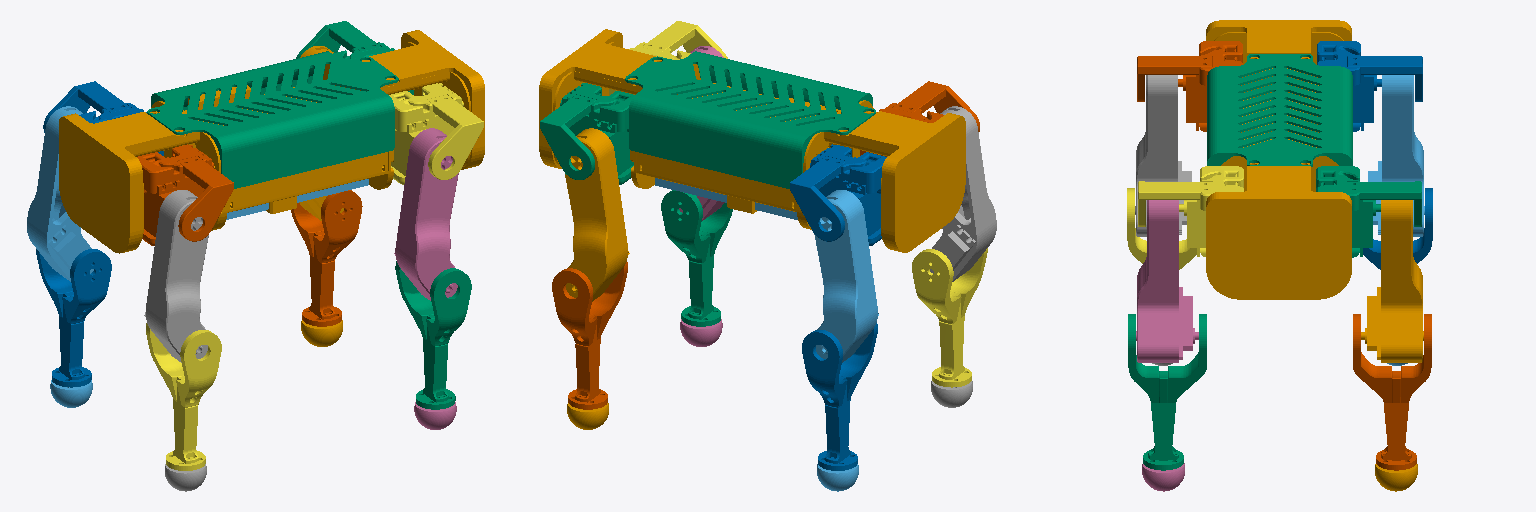
--- Render facts (derived) ---
3 views of the same robot in one strip: view 1: azimuth 30°, elevation 25°; view 2: azimuth 150°, elevation 25°; view 3: azimuth 270°, elevation 25° (orthographic).
Model spot with 19 links and 18 joints (12 revolute, 6 fixed), rooted at base_link, posed every joint at zero.
Visible links, largest first — view 1: base_link, Top_Cover1, front_right_upper_leg, back_right_upper_leg, back_right_hip, front_right_hip, front_right_lower_leg, back_right_lower_leg, back_left_lower_leg, front_left_lower_leg, back_left_upper_leg, back_left_hip (+6 smaller); view 2: Top_Cover1, base_link, front_left_upper_leg, back_left_upper_leg, back_left_hip, front_left_hip, front_left_lower_leg, back_left_lower_leg, back_right_lower_leg, front_right_lower_leg, back_right_upper_leg, back_right_hip (+6 smaller); view 3: base_link, Top_Cover1, front_right_upper_leg, front_left_upper_leg, front_right_lower_leg, front_left_lower_leg, back_right_upper_leg, back_left_upper_leg, back_left_hip, back_right_hip, front_left_hip, front_right_hip (+4 smaller).
Boxes of the visible links, x1,y1,x2,y2 form: base_link: (59, 30, 484, 253); Top_Cover1: (147, 51, 398, 188); front_right_upper_leg: (394, 128, 458, 300); back_right_upper_leg: (144, 190, 208, 362); back_right_hip: (137, 144, 233, 245); front_right_hip: (389, 83, 483, 184); front_right_lower_leg: (395, 261, 471, 409); back_right_lower_leg: (146, 323, 221, 470); back_left_lower_leg: (36, 249, 111, 387); front_left_lower_leg: (291, 190, 362, 326); back_left_upper_leg: (27, 106, 93, 281); back_left_hip: (43, 81, 163, 155); Top_Cover1: (625, 51, 875, 188); base_link: (539, 29, 965, 252); front_left_upper_leg: (565, 128, 629, 301); back_left_upper_leg: (814, 190, 878, 362); back_left_hip: (790, 144, 886, 245); front_left_hip: (540, 83, 633, 184); front_left_lower_leg: (552, 262, 627, 409); back_left_lower_leg: (802, 323, 877, 470); back_right_lower_leg: (912, 248, 987, 387); front_right_lower_leg: (661, 190, 732, 326); back_right_upper_leg: (930, 106, 996, 281); back_right_hip: (860, 81, 979, 156); base_link: (1206, 20, 1351, 299); Top_Cover1: (1207, 54, 1352, 166); front_right_upper_leg: (1136, 200, 1198, 362); front_left_upper_leg: (1361, 200, 1423, 362); front_right_lower_leg: (1128, 314, 1206, 470); front_left_lower_leg: (1353, 314, 1431, 470); back_right_upper_leg: (1135, 75, 1191, 236); back_left_upper_leg: (1368, 75, 1424, 236); back_left_hip: (1317, 41, 1422, 131); back_right_hip: (1137, 41, 1242, 131); front_left_hip: (1316, 166, 1421, 257); front_right_hip: (1138, 166, 1243, 256).
Bounding box of the posed robot: 0.3286 × 0.2378 × 0.2808 m (x, y, z).
19 mesh visuals loaded from 19 distinct referenced files (19 binary STL).

URDF robot description (spot):
<?xml version="1.0" ?>
<robot name="spot">

<material name="silver">
  <color rgba="0.700 0.700 0.700 1.000"/>

</material>
<material name="yellow">
    <color rgba="0.92 0.83 0.0 1"/>
</material>
<material name="black">
    <color rgba="0.1 0.1 0.1 1"/>
</material>
<material name="grey">
    <color rgba="0.6 0.6 0.6 1"/>
</material>
<material name="light_blue">
    <color rgba="0.678 0.847 0.902 1"/> 
</material>

<material name="golden">
    <color rgba="1.000 0.843 0.0 1"/> 
</material>

<link name="base_link">
  <inertial>
    <origin xyz="-0.008295240581080318 -0.002739576675468445 0.17292700566106015" rpy="0 0 0"/>
    <mass value="0.97"/>
    <inertia ixx="0.007045860818261918" iyy="0.05018533013712814" izz="0.051279011777961" ixy="0.00016485649826388768" iyz="-0.0001168007745745536" ixz="-3.733456442930709e-05"/>
  </inertial>
  <visual>
    <origin xyz="0 0 0" rpy="0 0 0"/>
    <geometry>
      <mesh filename="package://mini_ros/stl/minimal/base_link.stl" scale="0.001 0.001 0.001"/>
    </geometry>
    <material name="light_blue"/>
    <material/>
  </visual>
  <collision>
    <origin xyz="0 0 0" rpy="0 0 0"/>
    <geometry>
      <mesh filename="package://mini_ros/stl/minimal/base_link.stl" scale="0.001 0.001 0.001"/>
    </geometry>
  </collision>
</link>

<link name="battery">
  <inertial>
    <origin xyz="0.005151502934190126 -0.00655890470924438 -0.13673207013708202" rpy="0 0 0"/>
    <mass value="0.4"/>
    <inertia ixx="0.00033816920799999844" iyy="0.002269251561199996" izz="0.0024539963499999404" ixy="-5.096779355712785e-16" iyz="-2.6020852139652106e-18" ixz="1.951563910473908e-18"/>
  </inertial>
  <visual>
    <origin xyz="0.00171 -0.005957 -0.274464" rpy="0 0 0"/>
    <geometry>
      <mesh filename="package://mini_ros/stl/minimal/battery.stl" scale="0.001 0.001 0.001"/>
    </geometry>
    <material name="silver"/>
    <material/>
  </visual>
  <collision>
    <origin xyz="0.00171 -0.005957 -0.274464" rpy="0 0 0"/>
    <geometry>
      <mesh filename="package://mini_ros/stl/minimal/battery.stl" scale="0.001 0.001 0.001"/>
    </geometry>
  </collision>
</link>

<link name="Top_Cover1">
  <inertial>
    <origin xyz="0.09775249778321064 0.01999880120190154 -0.007917918975839239" rpy="0 0 0"/>
    <mass value="0.01"/>
    <inertia ixx="0.0018981617399269207" iyy="0.002138165559090438" izz="0.0038392899157759877" ixy="9.151139086435299e-08" iyz="4.980760630608869e-09" ixz="-2.1117137228633155e-06"/>
  </inertial>
  <visual>
    <origin xyz="0.099609 0.020627 -0.209632" rpy="0 0 0"/>
    <geometry>
      <mesh filename="package://mini_ros/stl/minimal/Top_Cover1.stl" scale="0.001 0.001 0.001"/>
    </geometry>
    <material name="silver"/>
    <material/>
  </visual>
  <collision>
    <origin xyz="0.099609 0.020627 -0.209632" rpy="0 0 0"/>
    <geometry>
      <mesh filename="package://mini_ros/stl/minimal/Top_Cover1.stl" scale="0.001 0.001 0.001"/>
    </geometry>
  </collision>
</link>

<link name="front_right_hip">
  <inertial>
    <origin xyz="-0.04330246146953602 -0.012492057044125468 -0.011202341384982967" rpy="0 0 0"/>
    <mass value="0.2"/>
    <inertia ixx="0.0006408362618219345" iyy="0.00053959261222776" izz="0.0005883876061230486" ixy="-4.5312501380957194e-05" iyz="7.08611302911652e-05" ixz="-4.589536802142649e-05"/>
  </inertial>
  <visual>
    <origin xyz="-0.152192 0.038954 -0.18373" rpy="0 0 0"/>
    <geometry>
      <mesh filename="package://mini_ros/stl/minimal/front_right_hip.stl" scale="0.001 0.001 0.001"/>
    </geometry>
    <material name="silver"/>
    <material/>
  </visual>
  <collision>
    <origin xyz="-0.152192 0.038954 -0.18373" rpy="0 0 0"/>
    <geometry>
      <mesh filename="package://mini_ros/stl/minimal/front_right_hip.stl" scale="0.001 0.001 0.001"/>
    </geometry>
  </collision>
</link>

<link name="back_left_hip">
  <inertial>
    <origin xyz="-0.043302462194397 0.012491962447182606 -0.011202100241462343" rpy="0 0 0"/>
    <mass value="0.2"/>
    <inertia ixx="0.0006408362818290658" iyy="0.0005395926191174086" izz="0.0005883876444021784" ixy="4.531247164380175e-05" iyz="-7.086110951588006e-05" ixz="-4.5895271587999276e-05"/>
  </inertial>
  <visual>
    <origin xyz="0.079108 -0.038373 -0.183732" rpy="0 0 0"/>
    <geometry>
      <mesh filename="package://mini_ros/stl/minimal/back_left_hip.stl" scale="0.001 0.001 0.001"/>
    </geometry>
    <material name="silver"/>
    <material/>
  </visual>
  <collision>
    <origin xyz="0.079108 -0.038373 -0.183732" rpy="0 0 0"/>
    <geometry>
      <mesh filename="package://mini_ros/stl/minimal/back_left_hip.stl" scale="0.001 0.001 0.001"/>
    </geometry>
  </collision>
</link>

<link name="back_right_hip">
  <inertial>
    <origin xyz="-0.04330246146953905 -0.01249176984284276 -0.011202104890385922" rpy="0 0 0"/>
    <mass value="0.2"/>
    <inertia ixx="0.0006408362618219518" iyy="0.0005395926122277669" izz="0.0005883876061230451" ixy="-4.5312501380957194e-05" iyz="7.086113029116693e-05" ixz="-4.589536802142649e-05"/>
  </inertial>
  <visual>
    <origin xyz="0.079108 0.039627 -0.183732" rpy="0 0 0"/>
    <geometry>
      <mesh filename="package://mini_ros/stl/minimal/back_right_hip.stl" scale="0.001 0.001 0.001"/>
    </geometry>
    <material name="silver"/>
    <material/>
  </visual>
  <collision>
    <origin xyz="0.079108 0.039627 -0.183732" rpy="0 0 0"/>
    <geometry>
      <mesh filename="package://mini_ros/stl/minimal/back_right_hip.stl" scale="0.001 0.001 0.001"/>
    </geometry>
  </collision>
</link>

<link name="front_right_upper_leg">
  <inertial>
    <origin xyz="-0.005112243369563396 -0.013293003120319682 -0.07465796672303905" rpy="0 0 0"/>
    <mass value="0.13"/>
    <inertia ixx="0.0013040807755517036" iyy="0.0013105636715430146" izz="0.00017991785156292947" ixy="-1.921713871266134e-06" iyz="7.025425398499326e-06" ixz="-4.554079626025755e-06"/>
  </inertial>
  <visual>
    <origin xyz="-0.096041 0.079104 -0.172858" rpy="0 0 0"/>
    <geometry>
      <mesh filename="package://mini_ros/stl/minimal/front_right_upper_leg.stl" scale="0.001 0.001 0.001"/>
    </geometry>
    <material name="light_blue"/>
    <material/>
  </visual>
  <collision>
    <origin xyz="-0.096041 0.079104 -0.172858" rpy="0 0 0"/>
    <geometry>
      <mesh filename="package://mini_ros/stl/minimal/front_right_upper_leg.stl" scale="0.001 0.001 0.001"/>
    </geometry>
  </collision>
</link>

<link name="back_right_upper_leg">
  <inertial>
    <origin xyz="-0.00511224336956656 -0.013292715919036899 -0.07465773022844209" rpy="0 0 0"/>
    <mass value="0.13"/>
    <inertia ixx="0.0013040807755516984" iyy="0.0013105636715430163" izz="0.000179917851562926" ixy="-1.9217138712643994e-06" iyz="7.025425398500193e-06" ixz="-4.554079626021418e-06"/>
  </inertial>
  <visual>
    <origin xyz="0.135259 0.079777 -0.17286" rpy="0 0 0"/>
    <geometry>
      <mesh filename="package://mini_ros/stl/minimal/back_right_upper_leg.stl" scale="0.001 0.001 0.001"/>
    </geometry>
    <material name="light_blue"/>
    <material/>
  </visual>
  <collision>
    <origin xyz="0.135259 0.079777 -0.17286" rpy="0 0 0"/>
    <geometry>
      <mesh filename="package://mini_ros/stl/minimal/back_right_upper_leg.stl" scale="0.001 0.001 0.001"/>
    </geometry>
  </collision>
</link>

<link name="front_left_upper_leg">
  <inertial>
    <origin xyz="-0.005112242846317422 0.013292712880005941 -0.07465796552731578" rpy="0 0 0"/>
    <mass value="0.13"/>
    <inertia ixx="0.0013040807009325837" iyy="0.0013105635564394733" izz="0.0001799178000066754" ixy="1.921718112497632e-06" iyz="-7.025415706232371e-06" ixz="-4.554068530070003e-06"/>
  </inertial>
  <visual>
    <origin xyz="-0.096041 -0.077851 -0.172858" rpy="0 0 0"/>
    <geometry>
      <mesh filename="package://mini_ros/stl/minimal/front_left_upper_leg.stl" scale="0.001 0.001 0.001"/>
    </geometry>
    <material name="light_blue"/>
    <material/>
  </visual>
  <collision>
    <origin xyz="-0.096041 -0.077851 -0.172858" rpy="0 0 0"/>
    <geometry>
      <mesh filename="package://mini_ros/stl/minimal/front_left_upper_leg.stl" scale="0.001 0.001 0.001"/>
    </geometry>
  </collision>
</link>

<link name="back_left_upper_leg">
  <inertial>
    <origin xyz="-0.005112242846320447 0.01329291039358671 -0.07465772903271933" rpy="0 0 0"/>
    <mass value="0.13"/>
    <inertia ixx="0.0013040807009325802" iyy="0.001310563556439475" izz="0.00017991780000667715" ixy="1.9217181124967647e-06" iyz="-7.025415706231504e-06" ixz="-4.554068530065666e-06"/>
  </inertial>
  <visual>
    <origin xyz="0.135259 -0.078523 -0.17286" rpy="0 0 0"/>
    <geometry>
      <mesh filename="package://mini_ros/stl/minimal/back_left_upper_leg.stl" scale="0.001 0.001 0.001"/>
    </geometry>
    <material name="light_blue"/>
    <material/>
  </visual>
  <collision>
    <origin xyz="0.135259 -0.078523 -0.17286" rpy="0 0 0"/>
    <geometry>
      <mesh filename="package://mini_ros/stl/minimal/back_left_upper_leg.stl" scale="0.001 0.001 0.001"/>
    </geometry>
  </collision>
</link>

<link name="front_right_lower_leg">
  <inertial>
    <origin xyz="0.00018698239808921657 0.023879765693408925 -0.04239106134065181" rpy="0 0 0"/>
    <mass value="0.05"/>
    <inertia ixx="0.000500921946588284" iyy="0.00040443925168893264" izz="0.0001281628902407364" ixy="1.1263314344351835e-07" iyz="-2.1529711112841738e-05" ixz="8.242610845028307e-07"/>
  </inertial>
  <visual>
    <origin xyz="-0.096041 0.112504 -0.062858" rpy="0 0 0"/>
    <geometry>
      <mesh filename="package://mini_ros/stl/minimal/front_right_lower_leg.stl" scale="0.001 0.001 0.001"/>
    </geometry>
    <material name="silver"/>
    <material/>
  </visual>
  <collision>
    <origin xyz="-0.096041 0.112504 -0.062858" rpy="0 0 0"/>
    <geometry>
      <mesh filename="package://mini_ros/stl/minimal/front_right_lower_leg.stl" scale="0.001 0.001 0.001"/>
    </geometry>
  </collision>
</link>

<link name="back_right_lower_leg">
  <inertial>
    <origin xyz="0.00018698239808756512 0.023880052894691667 -0.042390824846054644" rpy="0 0 0"/>
    <mass value="0.05"/>
    <inertia ixx="0.0005009219465882796" iyy="0.00040443925168894435" izz="0.0001281628902407364" ixy="1.1263314343701314e-07" iyz="-2.1529711112841412e-05" ixz="8.242610845074928e-07"/>
  </inertial>
  <visual>
    <origin xyz="0.135259 0.113177 -0.06286" rpy="0 0 0"/>
    <geometry>
      <mesh filename="package://mini_ros/stl/minimal/back_right_lower_leg.stl" scale="0.001 0.001 0.001"/>
    </geometry>
    <material name="silver"/>
    <material/>
  </visual>
  <collision>
    <origin xyz="0.135259 0.113177 -0.06286" rpy="0 0 0"/>
    <geometry>
      <mesh filename="package://mini_ros/stl/minimal/back_right_lower_leg.stl" scale="0.001 0.001 0.001"/>
    </geometry>
  </collision>
</link>

<link name="back_left_lower_leg">
  <inertial>
    <origin xyz="0.00018696862916936507 -0.023879881160866284 -0.04239082671345342" rpy="0 0 0"/>
    <mass value="0.05"/>
    <inertia ixx="0.0005009224902488962" iyy="0.00040444051013349344" izz="0.00012816354932610255" ixy="-1.1266055886761592e-07" iyz="2.1529921443282194e-05" ixz="8.244982960769988e-07"/>
  </inertial>
  <visual>
    <origin xyz="0.135259 -0.111923 -0.06286" rpy="0 0 0"/>
    <geometry>
      <mesh filename="package://mini_ros/stl/minimal/back_left_lower_leg.stl" scale="0.001 0.001 0.001"/>
    </geometry>
    <material name="silver"/>
    <material/>
  </visual>
  <collision>
    <origin xyz="0.135259 -0.111923 -0.06286" rpy="0 0 0"/>
    <geometry>
      <mesh filename="package://mini_ros/stl/minimal/back_left_lower_leg.stl" scale="0.001 0.001 0.001"/>
    </geometry>
  </collision>
</link>

<link name="front_left_lower_leg">
  <inertial>
    <origin xyz="0.00018696862917376433 -0.023880078674446956 -0.042391063208050056" rpy="0 0 0"/>
    <mass value="0.05"/>
    <inertia ixx="0.0005009224902489001" iyy="0.00040444051013348477" izz="0.00012816354932610515" ixy="-1.1266055886154439e-07" iyz="2.1529921443281868e-05" ixz="8.244982960700599e-07"/>
  </inertial>
  <visual>
    <origin xyz="-0.096041 -0.111251 -0.062858" rpy="0 0 0"/>
    <geometry>
      <mesh filename="package://mini_ros/stl/minimal/front_left_lower_leg.stl" scale="0.001 0.001 0.001"/>
    </geometry>
    <material name="silver"/>
    <material/>
  </visual>
  <collision>
    <origin xyz="-0.096041 -0.111251 -0.062858" rpy="0 0 0"/>
    <geometry>
      <mesh filename="package://mini_ros/stl/minimal/front_left_lower_leg.stl" scale="0.001 0.001 0.001"/>
    </geometry>
  </collision>
</link>

<link name="front_right_foot">
  <inertial>
    <origin xyz="-0.01174504370457545 0.08384373896891337 -0.1516023782621839" rpy="0 0 0"/>
    <mass value="0.005"/>
    <inertia ixx="1.0297646203956271e-05" iyy="1.0297617788936802e-05" izz="1.3937145322440603e-05" ixy="6.871239688344133e-15" iyz="2.7267684638010437e-16" ixz="-1.0168922547548406e-08"/>
  </inertial>
  <visual>
    <origin xyz="-0.108118 0.174848 -0.095693" rpy="0 0 0"/>
    <geometry>
      <mesh filename="package://mini_ros/stl/minimal/front_right_foot.stl" scale="0.001 0.001 0.001"/>
    </geometry>
    <material name="black"/>
    <material/>
  </visual>
  <collision>
    <origin xyz="-0.108118 0.174848 -0.095693" rpy="0 0 0"/>
    <geometry>
      <mesh filename="package://mini_ros/stl/minimal/front_right_foot.stl" scale="0.001 0.001 0.001"/>
    </geometry>
  </collision>
</link>

<link name="back_right_foot">
  <inertial>
    <origin xyz="-0.011249043704577313 -0.14745597382980394 -0.1520571417675866" rpy="0 0 0"/>
    <mass value="0.005"/>
    <inertia ixx="1.0297646203946296e-05" iyy="1.0297617788948728e-05" izz="1.39371453224354e-05" ixy="6.873408092689104e-15" iyz="2.7072528246963046e-16" ixz="-1.0168922546138943e-08"/>
  </inertial>
  <visual>
    <origin xyz="0.123678 -0.055779 -0.09615" rpy="0 0 0"/>
    <geometry>
      <mesh filename="package://mini_ros/stl/minimal/back_right_foot.stl" scale="0.001 0.001 0.001"/>
    </geometry>
    <material name="black"/>
    <material/>
  </visual>
  <collision>
    <origin xyz="0.123678 -0.055779 -0.09615" rpy="0 0 0"/>
    <geometry>
      <mesh filename="package://mini_ros/stl/minimal/back_right_foot.stl" scale="0.001 0.001 0.001"/>
    </geometry>
  </collision>
</link>

<link name="front_left_foot">
  <inertial>
    <origin xyz="-0.20644004370529487 -0.08384402971395226 -0.09675737801499243" rpy="0 0 0"/>
    <mass value="0.005"/>
    <inertia ixx="1.029764680036331e-05" iyy="1.0297618247698953e-05" izz="1.3937145425916859e-05" ixy="-7.546047120499111e-16" iyz="2.7269104942856393e-13" ixz="-1.0168918955369768e-08"/>
  </inertial>
  <visual>
    <origin xyz="-0.302813 -0.173595 -0.040848" rpy="0 0 0"/>
    <geometry>
      <mesh filename="package://mini_ros/stl/minimal/front_left_foot.stl" scale="0.001 0.001 0.001"/>
    </geometry>
    <material name="black"/>
    <material/>
  </visual>
  <collision>
    <origin xyz="-0.302813 -0.173595 -0.040848" rpy="0 0 0"/>
    <geometry>
      <mesh filename="package://mini_ros/stl/minimal/front_left_foot.stl" scale="0.001 0.001 0.001"/>
    </geometry>
  </collision>
</link>

<link name="back_left_foot">
  <inertial>
    <origin xyz="-0.20693404370529928 0.14745616779962833 -0.09630314152039564" rpy="0 0 0"/>
    <mass value="0.005"/>
    <inertia ixx="1.029764680034813e-05" iyy="1.0297618247707193e-05" izz="1.3937145425907752e-05" ixy="-7.574236376983734e-16" iyz="2.726892062848707e-13" ixz="-1.0168918954393986e-08"/>
  </inertial>
  <visual>
    <origin xyz="-0.072007 0.057033 -0.040396" rpy="0 0 0"/>
    <geometry>
      <mesh filename="package://mini_ros/stl/minimal/back_left_foot.stl" scale="0.001 0.001 0.001"/>
    </geometry>
    <material name="black"/>
    <material/>
  </visual>
  <collision>
    <origin xyz="-0.072007 0.057033 -0.040396" rpy="0 0 0"/>
    <geometry>
      <mesh filename="package://mini_ros/stl/minimal/back_left_foot.stl" scale="0.001 0.001 0.001"/>
    </geometry>
  </collision>
</link>

<link name="front_left_hip">
  <inertial>
    <origin xyz="-0.04330246219439385 0.012491764933601754 -0.011202336736059165" rpy="0 0 0"/>
    <mass value="0.2"/>
    <inertia ixx="0.0006408362818290658" iyy="0.0005395926191173947" izz="0.0005883876444021836" ixy="4.531247164380175e-05" iyz="-7.08611095158818e-05" ixz="-4.5895271587995806e-05"/>
  </inertial>
  <visual>
    <origin xyz="-0.152192 -0.037701 -0.18373" rpy="0 0 0"/>
    <geometry>
      <mesh filename="package://mini_ros/stl/minimal/front_left_hip.stl" scale="0.001 0.001 0.001"/>
    </geometry>
    <material name="silver"/>
    <material/>
  </visual>
  <collision>
    <origin xyz="-0.152192 -0.037701 -0.18373" rpy="0 0 0"/>
    <geometry>
      <mesh filename="package://mini_ros/stl/minimal/front_left_hip.stl" scale="0.001 0.001 0.001"/>
    </geometry>
  </collision>
</link>

<joint name="Rigid_2" type="fixed">
  <origin xyz="-0.00171 0.005957 0.274464" rpy="0 0 0"/>
  <parent link="base_link"/>
  <child link="battery"/>
</joint>

<joint name="Rigid_3" type="fixed">
  <origin xyz="-0.099609 -0.020627 0.209632" rpy="0 0 0"/>
  <parent link="base_link"/>
  <child link="Top_Cover1"/>
</joint>

<joint name="motor_front_right_hip" type="revolute">
  <origin xyz="0.152192 -0.038954 0.18373" rpy="0 0 0"/>
  <parent link="base_link"/>
  <child link="front_right_hip"/>
  <axis xyz="1.0 0.0 -0.0"/>
  <limit upper="1.047198" lower="-0.785398" effort="100" velocity="100"/>
</joint>
<transmission name="motor_front_right_hip_tran">
  <type>transmission_interface/SimpleTransmission</type>
  <joint name="motor_front_right_hip">
    <hardwareInterface>PositionJointInterface</hardwareInterface>
  </joint>
  <actuator name="motor_front_right_hip_actr">
    <hardwareInterface>PositionJointInterface</hardwareInterface>
    <mechanicalReduction>1</mechanicalReduction>
  </actuator>
</transmission>

<joint name="motor_back_left_hip" type="revolute">
  <origin xyz="-0.079108 0.038373 0.183732" rpy="0 0 0"/>
  <parent link="base_link"/>
  <child link="back_left_hip"/>
  <axis xyz="1.0 0.0 -0.0"/>
  <limit upper="0.785398" lower="-1.047198" effort="100" velocity="100"/>
</joint>
<transmission name="motor_back_left_hip_tran">
  <type>transmission_interface/SimpleTransmission</type>
  <joint name="motor_back_left_hip">
    <hardwareInterface>PositionJointInterface</hardwareInterface>
  </joint>
  <actuator name="motor_back_left_hip_actr">
    <hardwareInterface>PositionJointInterface</hardwareInterface>
    <mechanicalReduction>1</mechanicalReduction>
  </actuator>
</transmission>

<joint name="motor_back_right_hip" type="revolute">
  <origin xyz="-0.079108 -0.039627 0.183732" rpy="0 0 0"/>
  <parent link="base_link"/>
  <child link="back_right_hip"/>
  <axis xyz="1.0 0.0 -0.0"/>
  <limit upper="0.785398" lower="-1.047198" effort="100" velocity="100"/>
</joint>
<transmission name="motor_back_right_hip_tran">
  <type>transmission_interface/SimpleTransmission</type>
  <joint name="motor_back_right_hip">
    <hardwareInterface>PositionJointInterface</hardwareInterface>
  </joint>
  <actuator name="motor_back_right_hip_actr">
    <hardwareInterface>PositionJointInterface</hardwareInterface>
    <mechanicalReduction>1</mechanicalReduction>
  </actuator>
</transmission>

<joint name="motor_front_right_upper_leg" type="revolute">
  <origin xyz="-0.056151 -0.04015 -0.010872" rpy="0 0 0"/>
  <parent link="front_right_hip"/>
  <child link="front_right_upper_leg"/>
  <axis xyz="-0.0 1.0 0.0"/>
  <limit upper="0.872665" lower="-2.443461" effort="100" velocity="100"/>
</joint>
<transmission name="motor_front_right_upper_leg_tran">
  <type>transmission_interface/SimpleTransmission</type>
  <joint name="motor_front_right_upper_leg">
    <hardwareInterface>PositionJointInterface</hardwareInterface>
  </joint>
  <actuator name="motor_front_right_upper_leg_actr">
    <hardwareInterface>PositionJointInterface</hardwareInterface>
    <mechanicalReduction>1</mechanicalReduction>
  </actuator>
</transmission>

<joint name="motor_back_right_upper_leg" type="revolute">
  <origin xyz="-0.056151 -0.04015 -0.010872" rpy="0 0 0"/>
  <parent link="back_right_hip"/>
  <child link="back_right_upper_leg"/>
  <axis xyz="-0.0 1.0 0.0"/>
  <limit upper="0.872665" lower="-2.443461" effort="100" velocity="100"/>
</joint>
<transmission name="motor_back_right_upper_leg_tran">
  <type>transmission_interface/SimpleTransmission</type>
  <joint name="motor_back_right_upper_leg">
    <hardwareInterface>PositionJointInterface</hardwareInterface>
  </joint>
  <actuator name="motor_back_right_upper_leg_actr">
    <hardwareInterface>PositionJointInterface</hardwareInterface>
    <mechanicalReduction>1</mechanicalReduction>
  </actuator>
</transmission>

<joint name="motor_front_left_upper_leg" type="revolute">
  <origin xyz="-0.056151 0.04015 -0.010872" rpy="0 0 0"/>
  <parent link="front_left_hip"/>
  <child link="front_left_upper_leg"/>
  <axis xyz="0.0 1.0 -0.0"/>
  <limit upper="0.872665" lower="-2.443461" effort="100" velocity="100"/>
</joint>
<transmission name="motor_front_left_upper_leg_tran">
  <type>transmission_interface/SimpleTransmission</type>
  <joint name="motor_front_left_upper_leg">
    <hardwareInterface>PositionJointInterface</hardwareInterface>
  </joint>
  <actuator name="motor_front_left_upper_leg_actr">
    <hardwareInterface>PositionJointInterface</hardwareInterface>
    <mechanicalReduction>1</mechanicalReduction>
  </actuator>
</transmission>

<joint name="motor_back_left_upper_leg" type="revolute">
  <origin xyz="-0.056151 0.04015 -0.010872" rpy="0 0 0"/>
  <parent link="back_left_hip"/>
  <child link="back_left_upper_leg"/>
  <axis xyz="0.0 1.0 -0.0"/>
  <limit upper="0.872665" lower="-2.443461" effort="100" velocity="100"/>
</joint>
<transmission name="motor_back_left_upper_leg_tran">
  <type>transmission_interface/SimpleTransmission</type>
  <joint name="motor_back_left_upper_leg">
    <hardwareInterface>PositionJointInterface</hardwareInterface>
  </joint>
  <actuator name="motor_back_left_upper_leg_actr">
    <hardwareInterface>PositionJointInterface</hardwareInterface>
    <mechanicalReduction>1</mechanicalReduction>
  </actuator>
</transmission>

<joint name="motor_front_right_lower_leg" type="revolute">
  <origin xyz="0.0 -0.0334 -0.11" rpy="0 0 0"/>
  <parent link="front_right_upper_leg"/>
  <child link="front_right_lower_leg"/>
  <axis xyz="-0.0 1.0 0.0"/>
  <limit upper="2.792527" lower="-2.792527" effort="100" velocity="100"/>
</joint>
<transmission name="motor_front_right_lower_leg_tran">
  <type>transmission_interface/SimpleTransmission</type>
  <joint name="motor_front_right_lower_leg">
    <hardwareInterface>PositionJointInterface</hardwareInterface>
  </joint>
  <actuator name="motor_front_right_lower_leg_actr">
    <hardwareInterface>PositionJointInterface</hardwareInterface>
    <mechanicalReduction>1</mechanicalReduction>
  </actuator>
</transmission>

<joint name="motor_back_right_lower_leg" type="revolute">
  <origin xyz="0.0 -0.0334 -0.11" rpy="0 0 0"/>
  <parent link="back_right_upper_leg"/>
  <child link="back_right_lower_leg"/>
  <axis xyz="-0.0 1.0 0.0"/>
  <limit upper="2.792527" lower="-2.792527" effort="100" velocity="100"/>
</joint>
<transmission name="motor_back_right_lower_leg_tran">
  <type>transmission_interface/SimpleTransmission</type>
  <joint name="motor_back_right_lower_leg">
    <hardwareInterface>PositionJointInterface</hardwareInterface>
  </joint>
  <actuator name="motor_back_right_lower_leg_actr">
    <hardwareInterface>PositionJointInterface</hardwareInterface>
    <mechanicalReduction>1</mechanicalReduction>
  </actuator>
</transmission>

<joint name="motor_back_left_lower_leg" type="revolute">
  <origin xyz="0.0 0.0334 -0.11" rpy="0 0 0"/>
  <parent link="back_left_upper_leg"/>
  <child link="back_left_lower_leg"/>
  <axis xyz="0.0 1.0 -0.0"/>
  <limit upper="2.792527" lower="-2.792527" effort="100" velocity="100"/>
</joint>
<transmission name="motor_back_left_lower_leg_tran">
  <type>transmission_interface/SimpleTransmission</type>
  <joint name="motor_back_left_lower_leg">
    <hardwareInterface>PositionJointInterface</hardwareInterface>
  </joint>
  <actuator name="motor_back_left_lower_leg_actr">
    <hardwareInterface>PositionJointInterface</hardwareInterface>
    <mechanicalReduction>1</mechanicalReduction>
  </actuator>
</transmission>

<joint name="motor_front_left_lower_leg" type="revolute">
  <origin xyz="0.0 0.0334 -0.11" rpy="0 0 0"/>
  <parent link="front_left_upper_leg"/>
  <child link="front_left_lower_leg"/>
  <axis xyz="0.0 1.0 -0.0"/>
  <limit upper="2.792527" lower="-2.792527" effort="100" velocity="100"/>
</joint>
<transmission name="motor_front_left_lower_leg_tran">
  <type>transmission_interface/SimpleTransmission</type>
  <joint name="motor_front_left_lower_leg">
    <hardwareInterface>PositionJointInterface</hardwareInterface>
  </joint>
  <actuator name="motor_front_left_lower_leg_actr">
    <hardwareInterface>PositionJointInterface</hardwareInterface>
    <mechanicalReduction>1</mechanicalReduction>
  </actuator>
</transmission>

<joint name="front_right_leg_foot" type="fixed">
  <origin xyz="0.012077 -0.062344 0.032835" rpy="0 0 0"/>
  <parent link="front_right_lower_leg"/>
  <child link="front_right_foot"/>
</joint>

<joint name="back_right_leg_foot" type="fixed">
  <origin xyz="0.011581 0.168956 0.03329" rpy="0 0 0"/>
  <parent link="back_right_lower_leg"/>
  <child link="back_right_foot"/>
</joint>

<joint name="front_left_leg_foot" type="fixed">
  <origin xyz="0.206772 0.062344 -0.02201" rpy="0 0 0"/>
  <parent link="front_left_lower_leg"/>
  <child link="front_left_foot"/>
</joint>

<joint name="back_left_leg_foot" type="fixed">
  <origin xyz="0.207266 -0.168956 -0.022464" rpy="0 0 0"/>
  <parent link="back_left_lower_leg"/>
  <child link="back_left_foot"/>
</joint>

<joint name="motor_front_left_hip" type="revolute">
  <origin xyz="0.152192 0.037701 0.18373" rpy="0 0 0"/>
  <parent link="base_link"/>
  <child link="front_left_hip"/>
  <axis xyz="1.0 0.0 -0.0"/>
  <limit upper="1.396263" lower="-1.134464" effort="100" velocity="100"/>
</joint>
<transmission name="motor_front_left_hip_tran">
  <type>transmission_interface/SimpleTransmission</type>
  <joint name="motor_front_left_hip">
    <hardwareInterface>PositionJointInterface</hardwareInterface>
  </joint>
  <actuator name="motor_front_left_hip_actr">
    <hardwareInterface>PositionJointInterface</hardwareInterface>
    <mechanicalReduction>1</mechanicalReduction>
  </actuator>
</transmission>

</robot>
